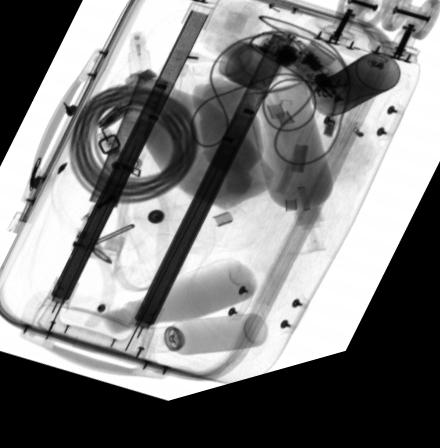Sprayer: (312, 74, 400, 134), (146, 326, 268, 365)
